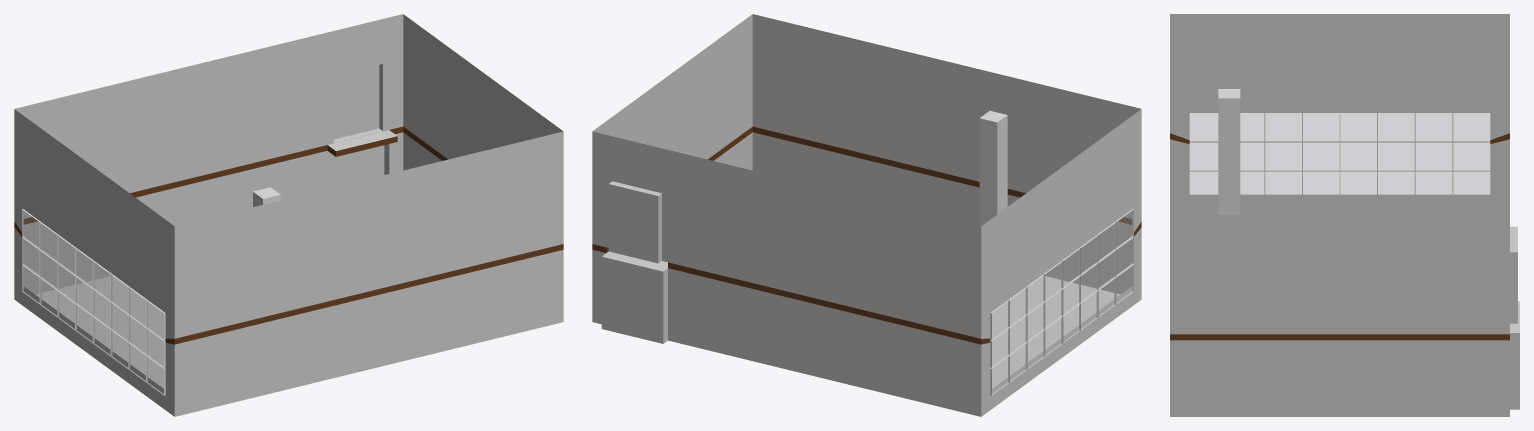
The model's file is room with big window.fbx.
The picture shows the model from 3 angles, left to right: view 1: azimuth 30°, elevation 25°; view 2: azimuth 150°, elevation 25°; view 3: azimuth 270°, elevation 25°; orthographic projection. The views are drawn at different scales.
Visible parts, largest first — view 1: Cube.018, Cube.019, Cube.021; view 2: Cube.018, Cube.019, Cube.021, Cube.020; view 3: Cube.018, Cube.019, Cube.020.
Part boxes in pixels (x1,y1,x2,y2): Cube.018: (14, 14, 563, 416); Cube.019: (22, 209, 165, 395); Cube.021: (35, 276, 163, 388); Cube.018: (592, 14, 1141, 416); Cube.019: (990, 209, 1133, 395); Cube.021: (992, 276, 1120, 388); Cube.020: (979, 111, 1007, 225); Cube.018: (1170, 14, 1519, 416); Cube.019: (1189, 113, 1490, 199); Cube.020: (1218, 89, 1240, 214).
Size of the model in its own units: 1687 by 787 by 1236.
